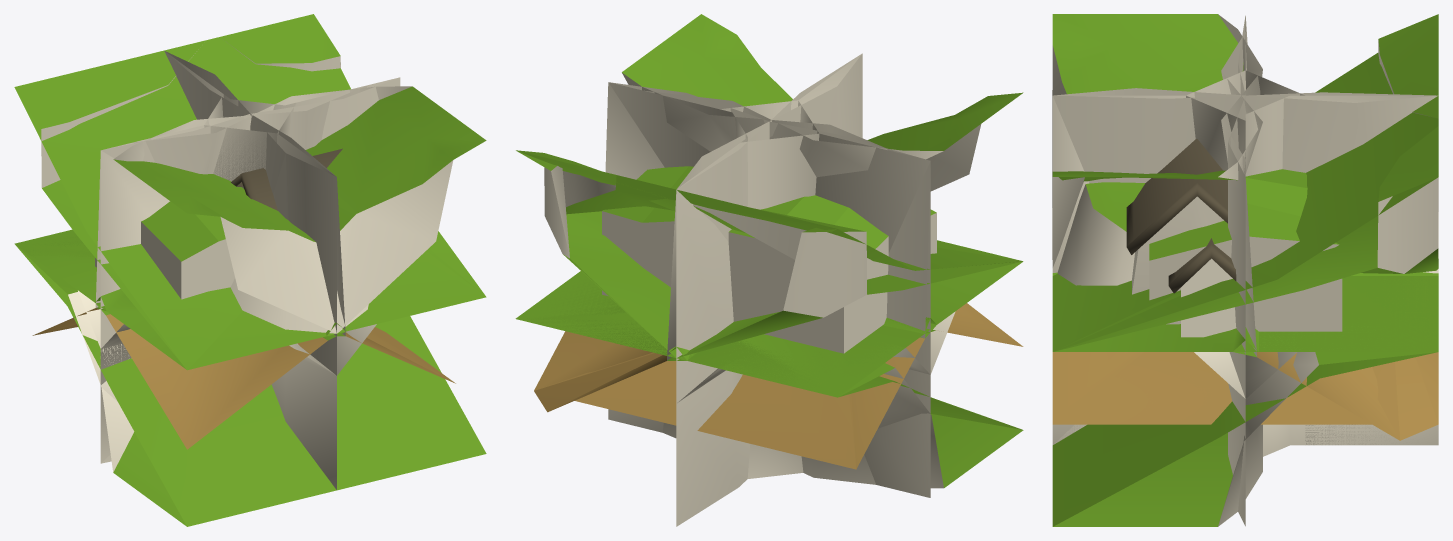
File: wfc_modules.glb
3 views of the same model, side by side, from view 1: azimuth 30°, elevation 25°; view 2: azimuth 150°, elevation 25°; view 3: azimuth 270°, elevation 25° (orthographic). The views are drawn at different scales.
Visible parts, largest first — view 1: wfc_module_17, wfc_module_24, wfc_module_19, wfc_module_21, wfc_module_23, wfc_module_22, wfc_module_12, wfc_module_38, wfc_module_35, wfc_module_1, wfc_module_8, wfc_module_28 (+14 smaller); view 2: wfc_module_29, wfc_module_38, wfc_module_35, wfc_module_22, wfc_module_24, wfc_module_26, wfc_module_7, wfc_module_23, wfc_module_37, wfc_module_12, wfc_module_8, wfc_module_21 (+19 smaller); view 3: wfc_module_23, wfc_module_33, wfc_module_28, wfc_module_17, wfc_module_38, wfc_module_19, wfc_module_21, wfc_module_27, wfc_module_4, wfc_module_8, wfc_module_20, wfc_module_0 (+18 smaller).
Boxes of the visible parts, bbox=[...] form: wfc_module_17: bbox=[16, 245, 486, 526]; wfc_module_24: bbox=[101, 86, 486, 369]; wfc_module_19: bbox=[15, 37, 350, 369]; wfc_module_21: bbox=[14, 40, 486, 369]; wfc_module_23: bbox=[113, 85, 368, 333]; wfc_module_22: bbox=[26, 62, 345, 449]; wfc_module_12: bbox=[164, 51, 346, 330]; wfc_module_38: bbox=[95, 201, 234, 309]; wfc_module_35: bbox=[100, 52, 299, 345]; wfc_module_1: bbox=[271, 357, 336, 489]; wfc_module_8: bbox=[108, 14, 484, 370]; wfc_module_28: bbox=[204, 125, 455, 383]; wfc_module_29: bbox=[574, 82, 930, 469]; wfc_module_38: bbox=[515, 166, 936, 397]; wfc_module_35: bbox=[676, 143, 750, 526]; wfc_module_22: bbox=[517, 151, 1023, 391]; wfc_module_24: bbox=[622, 14, 1022, 324]; wfc_module_26: bbox=[798, 101, 930, 497]; wfc_module_7: bbox=[520, 227, 866, 357]; wfc_module_23: bbox=[644, 90, 1023, 191]; wfc_module_37: bbox=[534, 82, 676, 410]; wfc_module_12: bbox=[523, 53, 862, 354]; wfc_module_8: bbox=[516, 150, 1021, 270]; wfc_module_21: bbox=[516, 150, 1022, 294]; wfc_module_23: bbox=[1052, 14, 1262, 351]; wfc_module_33: bbox=[1053, 95, 1437, 183]; wfc_module_28: bbox=[1052, 96, 1371, 424]; wfc_module_17: bbox=[1052, 352, 1436, 526]; wfc_module_38: bbox=[1149, 169, 1433, 349]; wfc_module_19: bbox=[1251, 53, 1438, 279]; wfc_module_21: bbox=[1052, 14, 1438, 351]; wfc_module_27: bbox=[1126, 139, 1438, 347]; wfc_module_4: bbox=[1053, 433, 1242, 526]; wfc_module_8: bbox=[1054, 126, 1438, 351]; wfc_module_20: bbox=[1218, 276, 1437, 526]; wfc_module_0: bbox=[1233, 276, 1438, 351].
Size of the model in its own units: 1 by 1 by 1.
